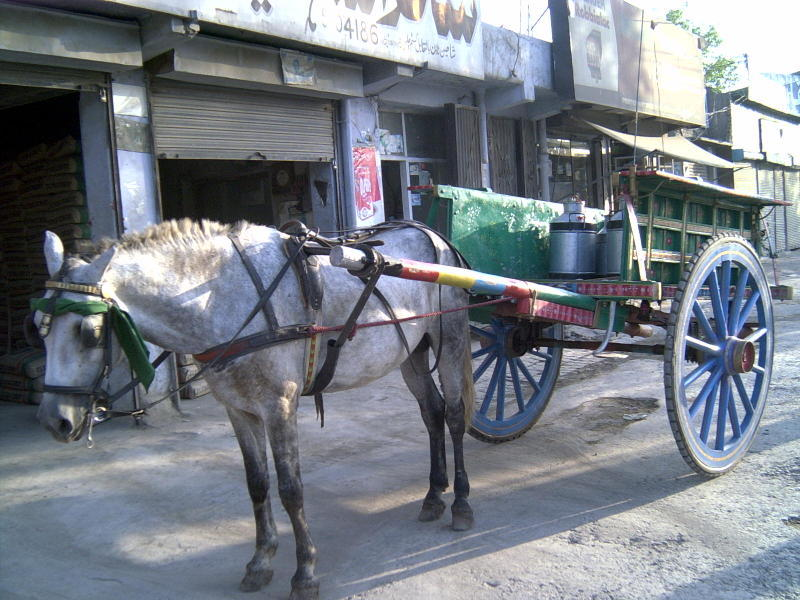horse: (33, 216, 480, 597)
